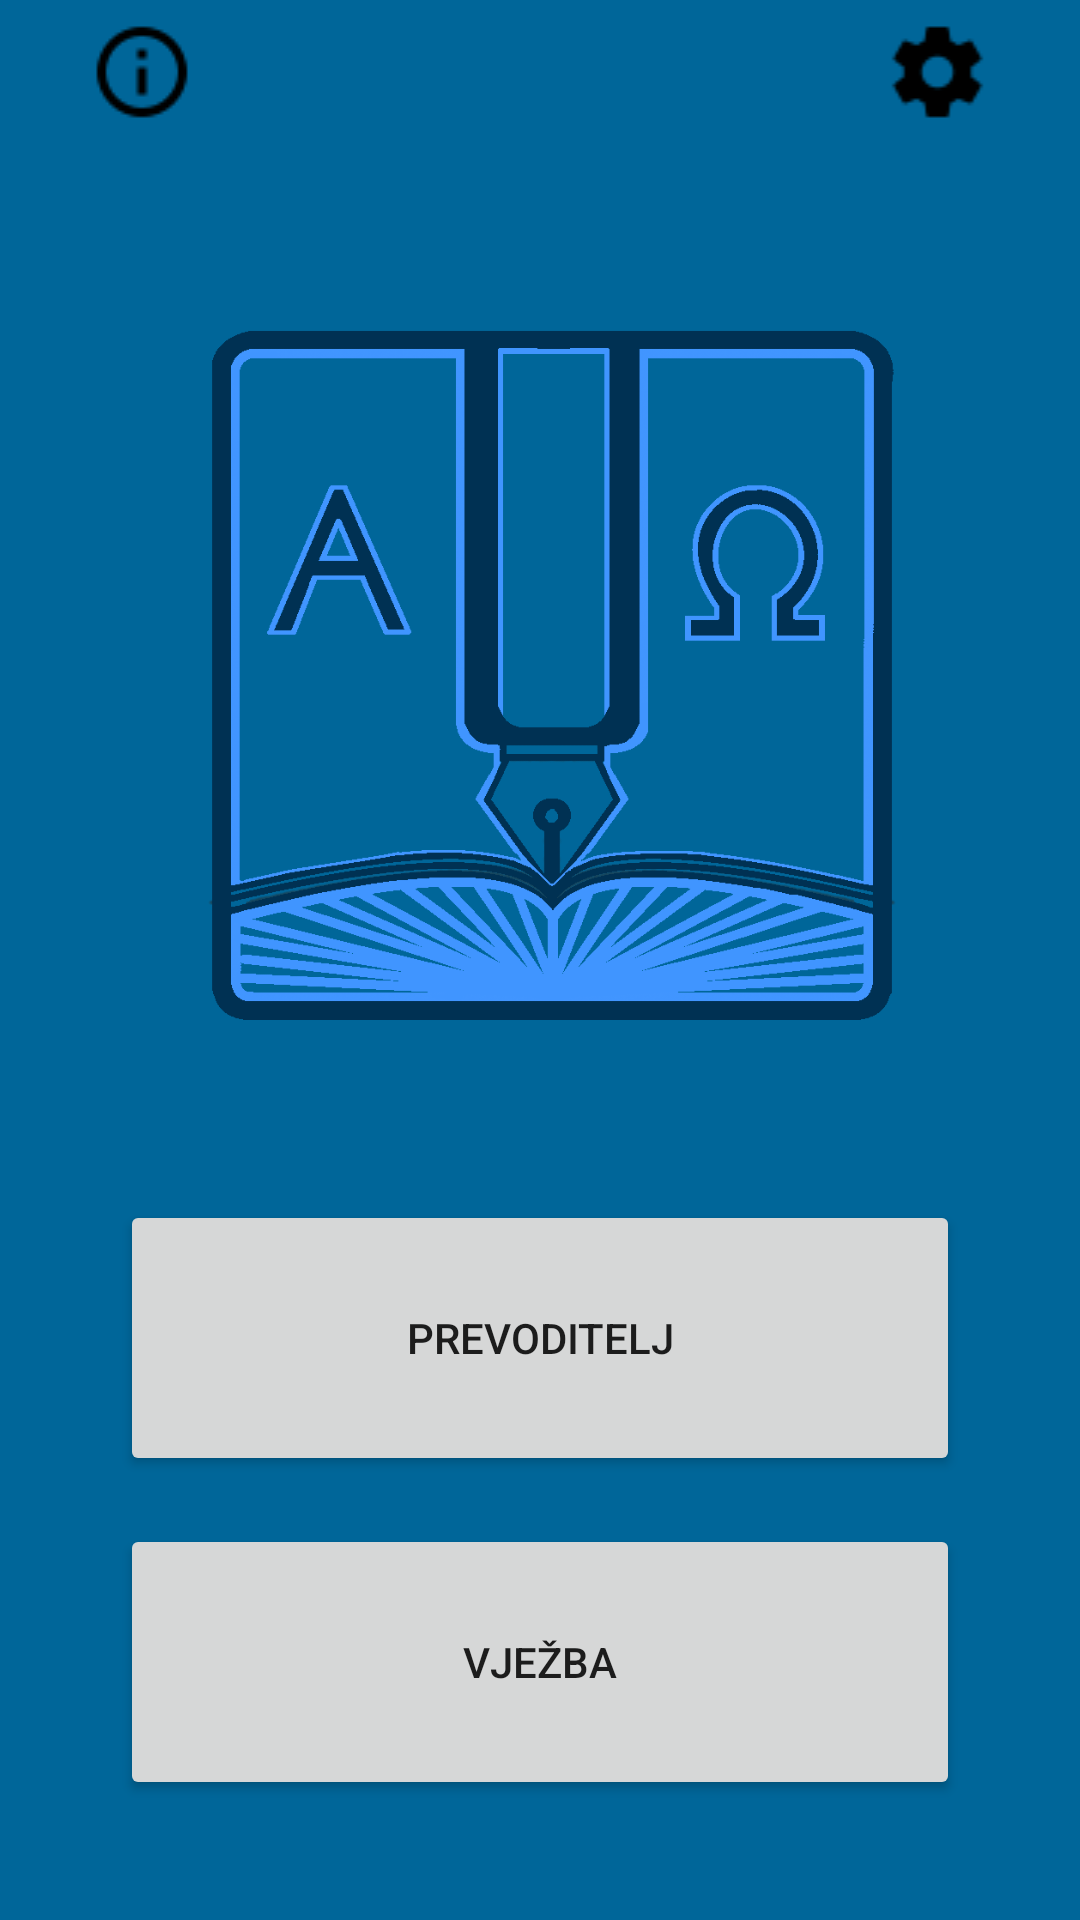

Icons on this 1080w x 1920h Android screen, each with its box as (x1, y1, x2, y2):
information: (96, 26, 188, 118)
settings: (892, 26, 983, 118)
